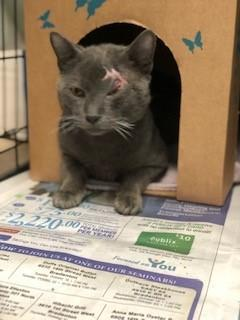rblue: (38, 18, 171, 149)
